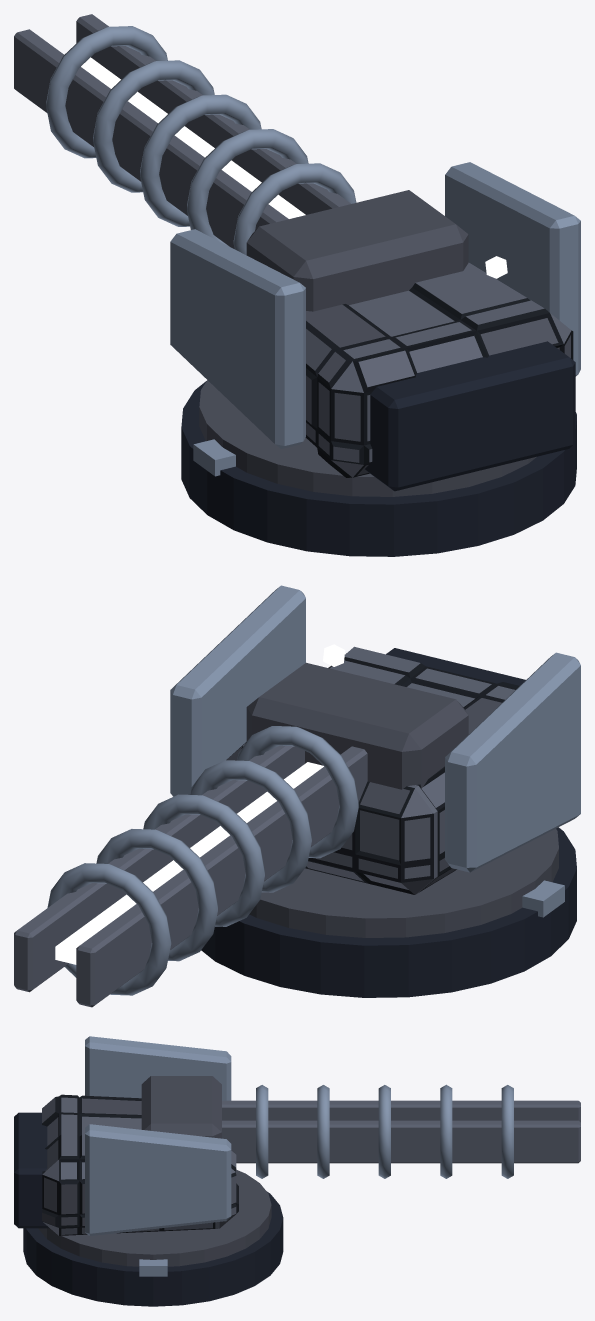
File: turret_rail_drivers.glb
3 views of the same model, one above another, from view 1: azimuth 30°, elevation 25°; view 2: azimuth 150°, elevation 25°; view 3: azimuth 270°, elevation 25° (orthographic). The views are drawn at different scales.
Parts seen in each view (by area): view 1: Yaw_mesh, Pitch_mesh, Base_mesh; view 2: Pitch_mesh, Yaw_mesh, Base_mesh; view 3: Yaw_mesh, Pitch_mesh, Base_mesh.
Boxes of the visible parts, box(x1,y1,x2,y2) form: Yaw_mesh: box(170, 162, 580, 491); Pitch_mesh: box(14, 14, 468, 311); Base_mesh: box(181, 380, 576, 556); Pitch_mesh: box(14, 662, 468, 1007); Yaw_mesh: box(170, 585, 580, 894); Base_mesh: box(201, 827, 576, 997); Yaw_mesh: box(14, 1036, 238, 1235); Pitch_mesh: box(141, 1076, 580, 1178); Base_mesh: box(23, 1169, 283, 1306).
Bounding box in the file's own units: 1.12 × 0.7876 × 2.4.
